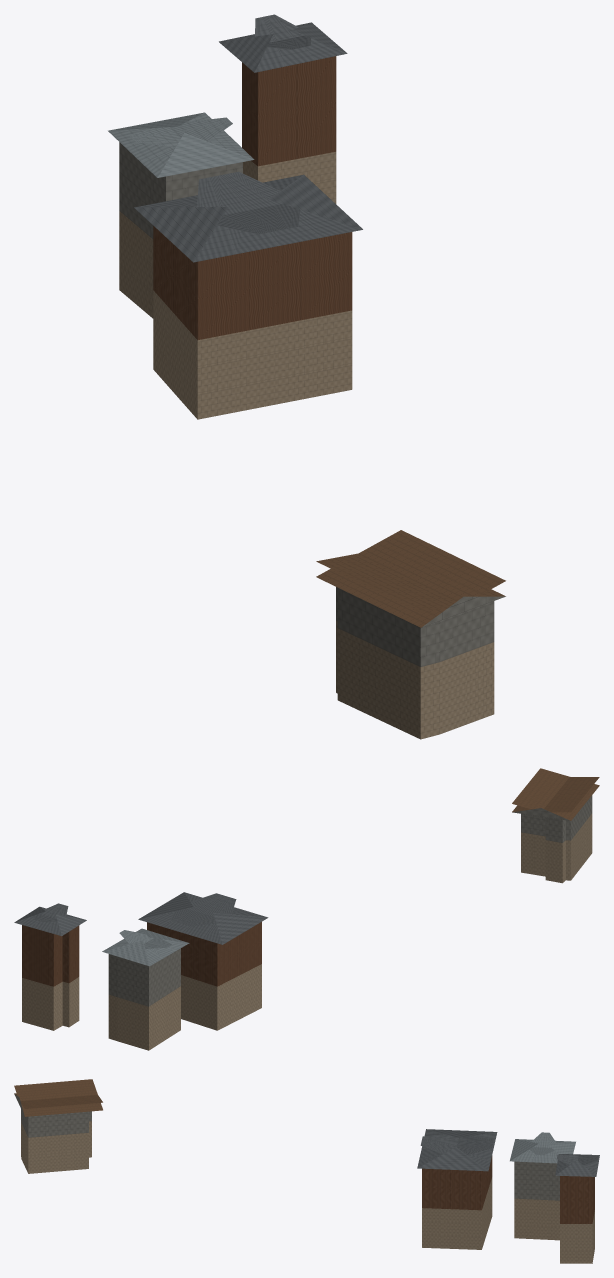
Rendered from bld_c36_-28_442.gltf.
3 views of the same model, one above another, from view 1: azimuth 30°, elevation 25°; view 2: azimuth 150°, elevation 25°; view 3: azimuth 270°, elevation 25° (orthographic). The views are drawn at different scales.
Parts seen in each view (by area): view 1: bld_c36_-28_442; view 2: bld_c36_-28_442; view 3: bld_c36_-28_442.
Part boxes in pixels (x1,y1,x2,y2): bld_c36_-28_442: [108, 14, 505, 739]; bld_c36_-28_442: [14, 768, 599, 1050]; bld_c36_-28_442: [14, 1079, 599, 1263].
Size of the model in its own units: 33.6 by 14.3 by 68.24.
7 materials, 7 textured.
